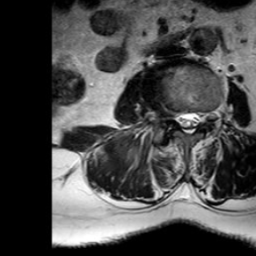CCS_normal: (184, 103, 192, 143)
LFS_normal: (200, 100, 209, 133)
LLS_normal: (192, 102, 200, 136)
RFS_normal: (165, 98, 175, 128)
RLS_normal: (175, 103, 184, 133)
